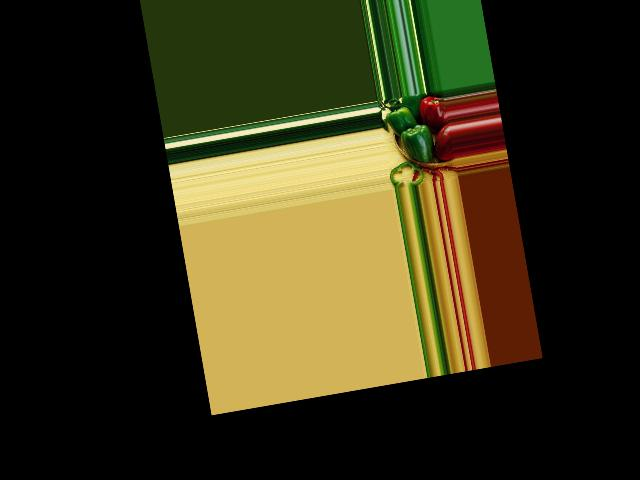bell_pepper: (431, 123, 454, 162)
